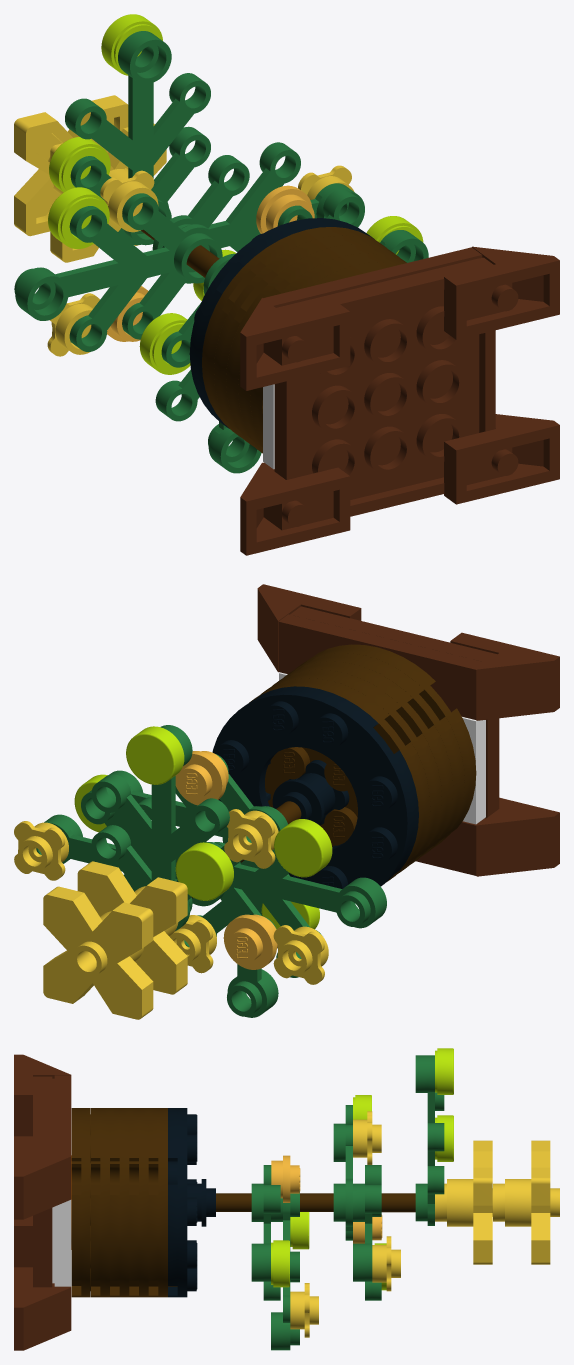
Rendered from bonsai-pequeño-2.dae.
The picture shows the model from 3 angles, top to bottom: view 1: azimuth 30°, elevation 25°; view 2: azimuth 150°, elevation 25°; view 3: azimuth 270°, elevation 25°; orthographic projection. The views are drawn at different scales.
Visible parts, largest first — view 1: Inner-Node-UntitledModel-29, Inner-Node-UntitledModel-10, Inner-Node-UntitledModel-2, Inner-Node-UntitledModel-37, Inner-Node-UntitledModel-36, Inner-Node-UntitledModel-34, Inner-Node-UntitledModel-35, Inner-Node-UntitledModel-6, Inner-Node-UntitledModel-0, Inner-Node-UntitledModel-16, Inner-Node-UntitledModel-23, Inner-Node-UntitledModel-24 (+18 smaller); view 2: Inner-Node-UntitledModel-23, Inner-Node-UntitledModel-0, Inner-Node-UntitledModel-2, Inner-Node-UntitledModel-10, Inner-Node-UntitledModel-22, Inner-Node-UntitledModel-32, Inner-Node-UntitledModel-1, Inner-Node-UntitledModel-35, Inner-Node-UntitledModel-34, Inner-Node-UntitledModel-29, Inner-Node-UntitledModel-27, Inner-Node-UntitledModel-25 (+20 smaller); view 3: Inner-Node-UntitledModel-23, Inner-Node-UntitledModel-0, Inner-Node-UntitledModel-1, Inner-Node-UntitledModel-24, Inner-Node-UntitledModel-27, Inner-Node-UntitledModel-22, Inner-Node-UntitledModel-25, Inner-Node-UntitledModel-26, Inner-Node-UntitledModel-36, Inner-Node-UntitledModel-37, Inner-Node-UntitledModel-29, Inner-Node-UntitledModel-2 (+21 smaller).
Boxes of the visible parts, x1=… form: Inner-Node-UntitledModel-29: x1=274, y1=257, x2=495, y2=516; Inner-Node-UntitledModel-10: x1=14, y1=193, x2=222, y2=351; Inner-Node-UntitledModel-2: x1=65, y1=31, x2=210, y2=245; Inner-Node-UntitledModel-37: x1=444, y1=246, x2=559, y2=339; Inner-Node-UntitledModel-36: x1=444, y1=414, x2=559, y2=504; Inner-Node-UntitledModel-34: x1=240, y1=462, x2=350, y2=555; Inner-Node-UntitledModel-35: x1=240, y1=298, x2=350, y2=390; Inner-Node-UntitledModel-6: x1=152, y1=142, x2=364, y2=251; Inner-Node-UntitledModel-0: x1=14, y1=95, x2=128, y2=236; Inner-Node-UntitledModel-16: x1=155, y1=253, x2=261, y2=473; Inner-Node-UntitledModel-23: x1=189, y1=218, x2=374, y2=428; Inner-Node-UntitledModel-24: x1=214, y1=235, x2=399, y2=446; Inner-Node-UntitledModel-23: x1=212, y1=686, x2=418, y2=888; Inner-Node-UntitledModel-0: x1=43, y1=886, x2=153, y2=1019; Inner-Node-UntitledModel-2: x1=91, y1=725, x2=229, y2=930; Inner-Node-UntitledModel-10: x1=204, y1=815, x2=386, y2=958; Inner-Node-UntitledModel-22: x1=249, y1=678, x2=430, y2=882; Inner-Node-UntitledModel-32: x1=278, y1=614, x2=485, y2=720; Inner-Node-UntitledModel-1: x1=77, y1=861, x2=187, y2=994; Inner-Node-UntitledModel-35: x1=450, y1=632, x2=559, y2=720; Inner-Node-UntitledModel-34: x1=476, y1=797, x2=559, y2=876; Inner-Node-UntitledModel-29: x1=290, y1=606, x2=499, y2=818; Inner-Node-UntitledModel-27: x1=295, y1=644, x2=476, y2=848; Inner-Node-UntitledModel-25: x1=272, y1=661, x2=453, y2=864; Inner-Node-UntitledModel-23: x1=168, y1=1108, x2=196, y2=1297; Inner-Node-UntitledModel-0: x1=493, y1=1140, x2=559, y2=1264; Inner-Node-UntitledModel-1: x1=435, y1=1140, x2=492, y2=1264; Inner-Node-UntitledModel-24: x1=129, y1=1108, x2=158, y2=1297; Inner-Node-UntitledModel-27: x1=71, y1=1108, x2=100, y2=1297; Inner-Node-UntitledModel-22: x1=148, y1=1108, x2=177, y2=1297; Inner-Node-UntitledModel-25: x1=110, y1=1108, x2=138, y2=1297; Inner-Node-UntitledModel-26: x1=91, y1=1108, x2=119, y2=1297; Inner-Node-UntitledModel-36: x1=14, y1=1267, x2=71, y2=1350; Inner-Node-UntitledModel-37: x1=14, y1=1136, x2=71, y2=1219; Inner-Node-UntitledModel-29: x1=33, y1=1076, x2=52, y2=1287; Inner-Node-UntitledModel-2: x1=415, y1=1055, x2=444, y2=1225.
Bounding box in the file's own units: 137 × 136 × 227.
